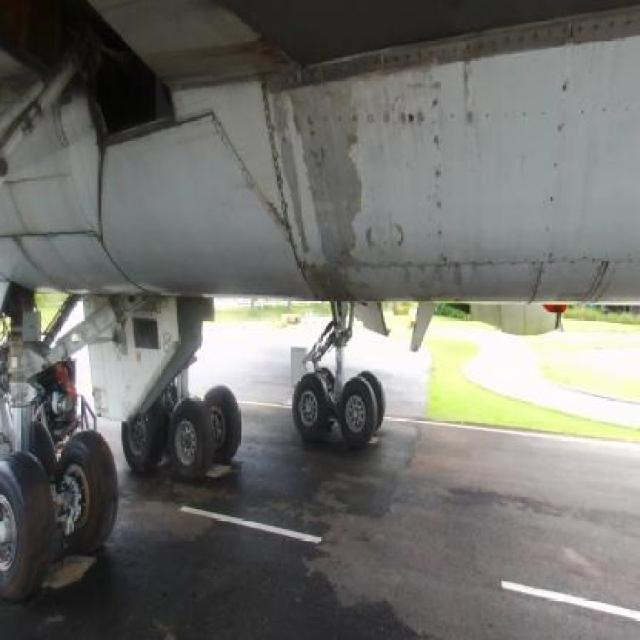Missing-Rivet: (546, 64, 572, 250), (431, 81, 451, 262), (318, 251, 456, 275), (302, 108, 428, 132), (473, 20, 570, 48), (576, 8, 633, 48), (450, 106, 548, 126), (534, 253, 614, 275), (456, 252, 532, 273), (572, 99, 636, 118)
Rust: (455, 50, 473, 107)
Scartch: (267, 78, 382, 318), (385, 262, 466, 309), (363, 208, 411, 262), (390, 56, 444, 92), (380, 96, 431, 130)
